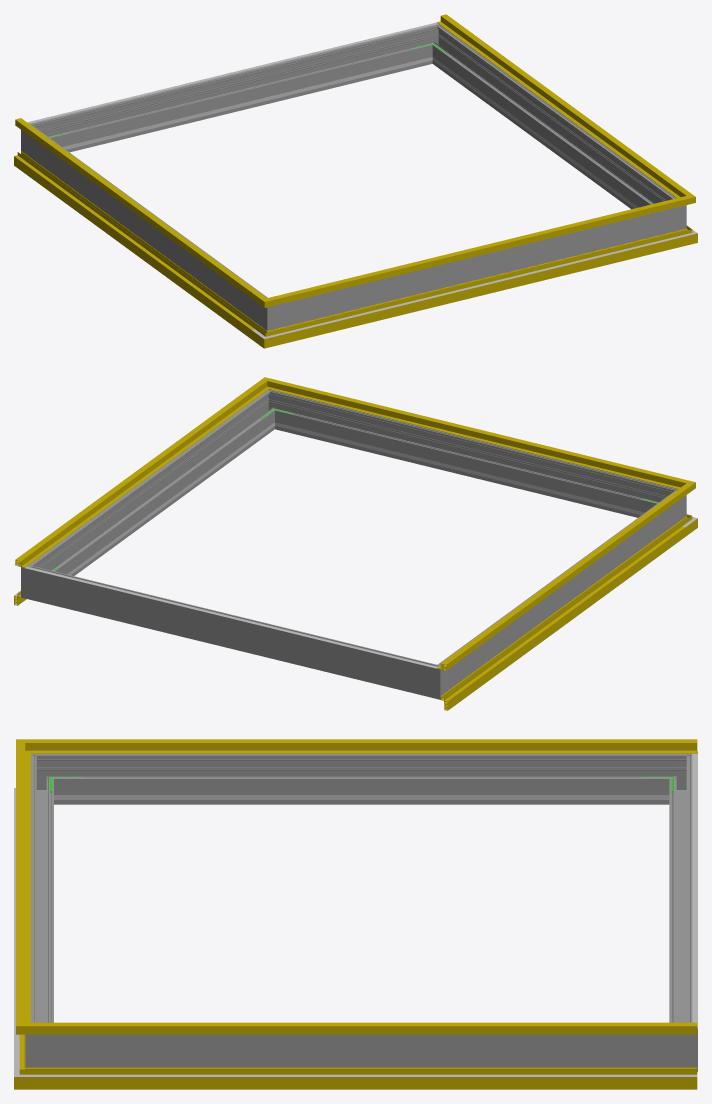
The picture shows the model from 3 angles, top to bottom: view 1: azimuth 30°, elevation 25°; view 2: azimuth 150°, elevation 25°; view 3: azimuth 270°, elevation 25°; orthographic projection. The views are drawn at different scales.
Visible parts, largest first — view 1: 3DGeom-276, 3DGeom-298, 3DGeom-297, 3DGeom-90, 3DGeom-268, 3DGeom-85, 3DGeom-123, 3DGeom-128, 3DGeom-118, 3DGeom-244, 3DGeom-220, 3DGeom-100 (+6 smaller); view 2: 3DGeom-298, 3DGeom-276, 3DGeom-297, 3DGeom-268, 3DGeom-123, 3DGeom-85, 3DGeom-128, 3DGeom-118, 3DGeom-239, 3DGeom-220, 3DGeom-278, 3DGeom-105 (+3 smaller); view 3: 3DGeom-268, 3DGeom-297, 3DGeom-97, 3DGeom-118, 3DGeom-128, 3DGeom-276, 3DGeom-298, 3DGeom-123, 3DGeom-232, 3DGeom-98, 3DGeom-220, 3DGeom-284 (+7 smaller).
Boxes of the visible parts, x1=… form: 3DGeom-276: x1=44, y1=28, x2=428, y2=152; 3DGeom-298: x1=289, y1=210, x2=664, y2=325; 3DGeom-297: x1=434, y1=31, x2=670, y2=209; 3DGeom-90: x1=281, y1=232, x2=676, y2=343; 3DGeom-268: x1=33, y1=131, x2=261, y2=321; 3DGeom-85: x1=14, y1=151, x2=258, y2=339; 3DGeom-123: x1=283, y1=199, x2=674, y2=302; 3DGeom-128: x1=437, y1=14, x2=682, y2=195; 3DGeom-118: x1=15, y1=118, x2=257, y2=298; 3DGeom-244: x1=70, y1=62, x2=411, y2=148; 3DGeom-220: x1=27, y1=22, x2=438, y2=123; 3DGeom-100: x1=284, y1=237, x2=675, y2=333; 3DGeom-298: x1=278, y1=394, x2=662, y2=517; 3DGeom-276: x1=42, y1=569, x2=422, y2=694; 3DGeom-297: x1=37, y1=397, x2=272, y2=575; 3DGeom-268: x1=446, y1=497, x2=673, y2=686; 3DGeom-123: x1=281, y1=382, x2=673, y2=486; 3DGeom-85: x1=440, y1=522, x2=685, y2=710; 3DGeom-128: x1=15, y1=386, x2=261, y2=567; 3DGeom-118: x1=437, y1=490, x2=683, y2=670; 3DGeom-239: x1=296, y1=427, x2=636, y2=513; 3DGeom-220: x1=25, y1=566, x2=437, y2=668; 3DGeom-278: x1=418, y1=658, x2=452, y2=699; 3DGeom-105: x1=444, y1=526, x2=684, y2=701; 3DGeom-268: x1=59, y1=753, x2=663, y2=804; 3DGeom-297: x1=59, y1=1034, x2=663, y2=1067; 3DGeom-97: x1=48, y1=1067, x2=697, y2=1089; 3DGeom-118: x1=50, y1=739, x2=697, y2=753; 3DGeom-128: x1=50, y1=1022, x2=697, y2=1034; 3DGeom-276: x1=669, y1=765, x2=692, y2=1022; 3DGeom-298: x1=31, y1=765, x2=53, y2=1022; 3DGeom-123: x1=16, y1=753, x2=30, y2=1019; 3DGeom-232: x1=87, y1=795, x2=636, y2=799; 3DGeom-98: x1=48, y1=1074, x2=697, y2=1076; 3DGeom-220: x1=692, y1=753, x2=697, y2=1028; 3DGeom-284: x1=663, y1=1016, x2=697, y2=1071.
Size of the model in its own units: 3.05 by 0.3069 by 3.05.
